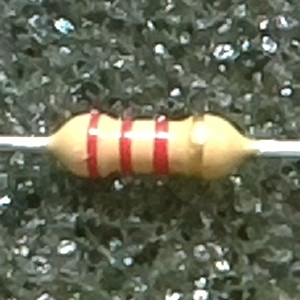gold_band: (187, 112, 208, 182)
red_band: (84, 112, 104, 183), (151, 118, 171, 178), (117, 117, 137, 175)
